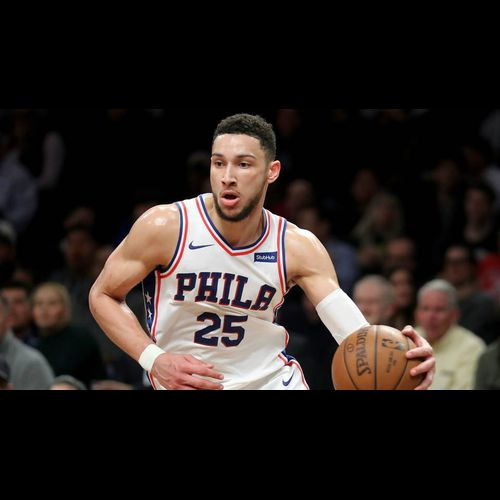ball: (332, 325, 423, 389)
